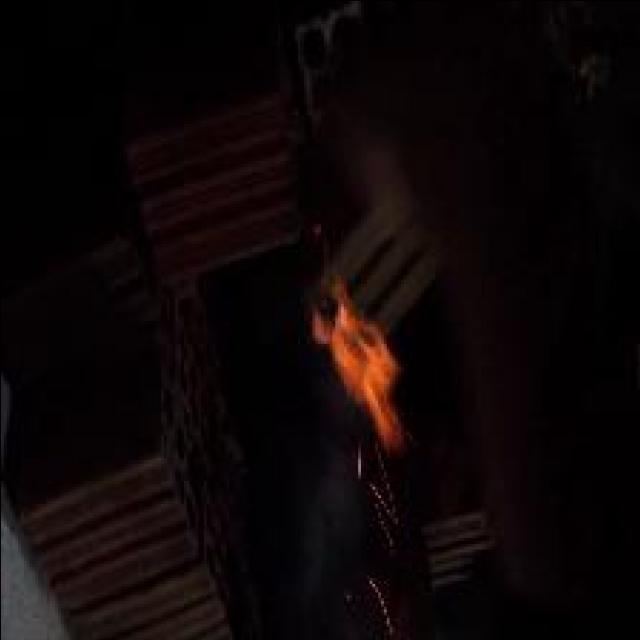Fire: (308, 274, 402, 446)
